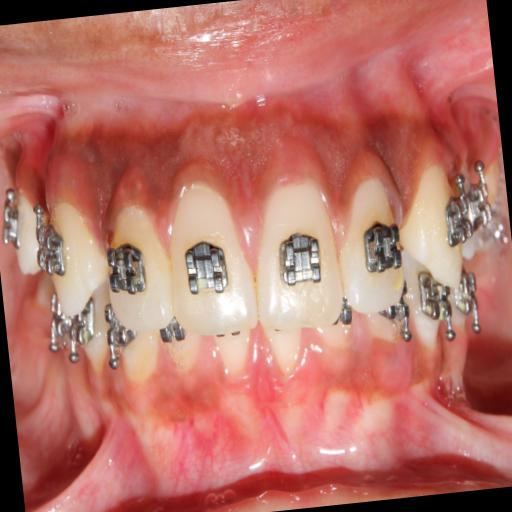correct_brace: (269, 214, 329, 300), (177, 228, 236, 304), (358, 215, 407, 282), (32, 212, 73, 280), (105, 239, 151, 296), (442, 192, 476, 254)
incorrect_brace: (334, 174, 412, 322), (100, 202, 178, 338)
